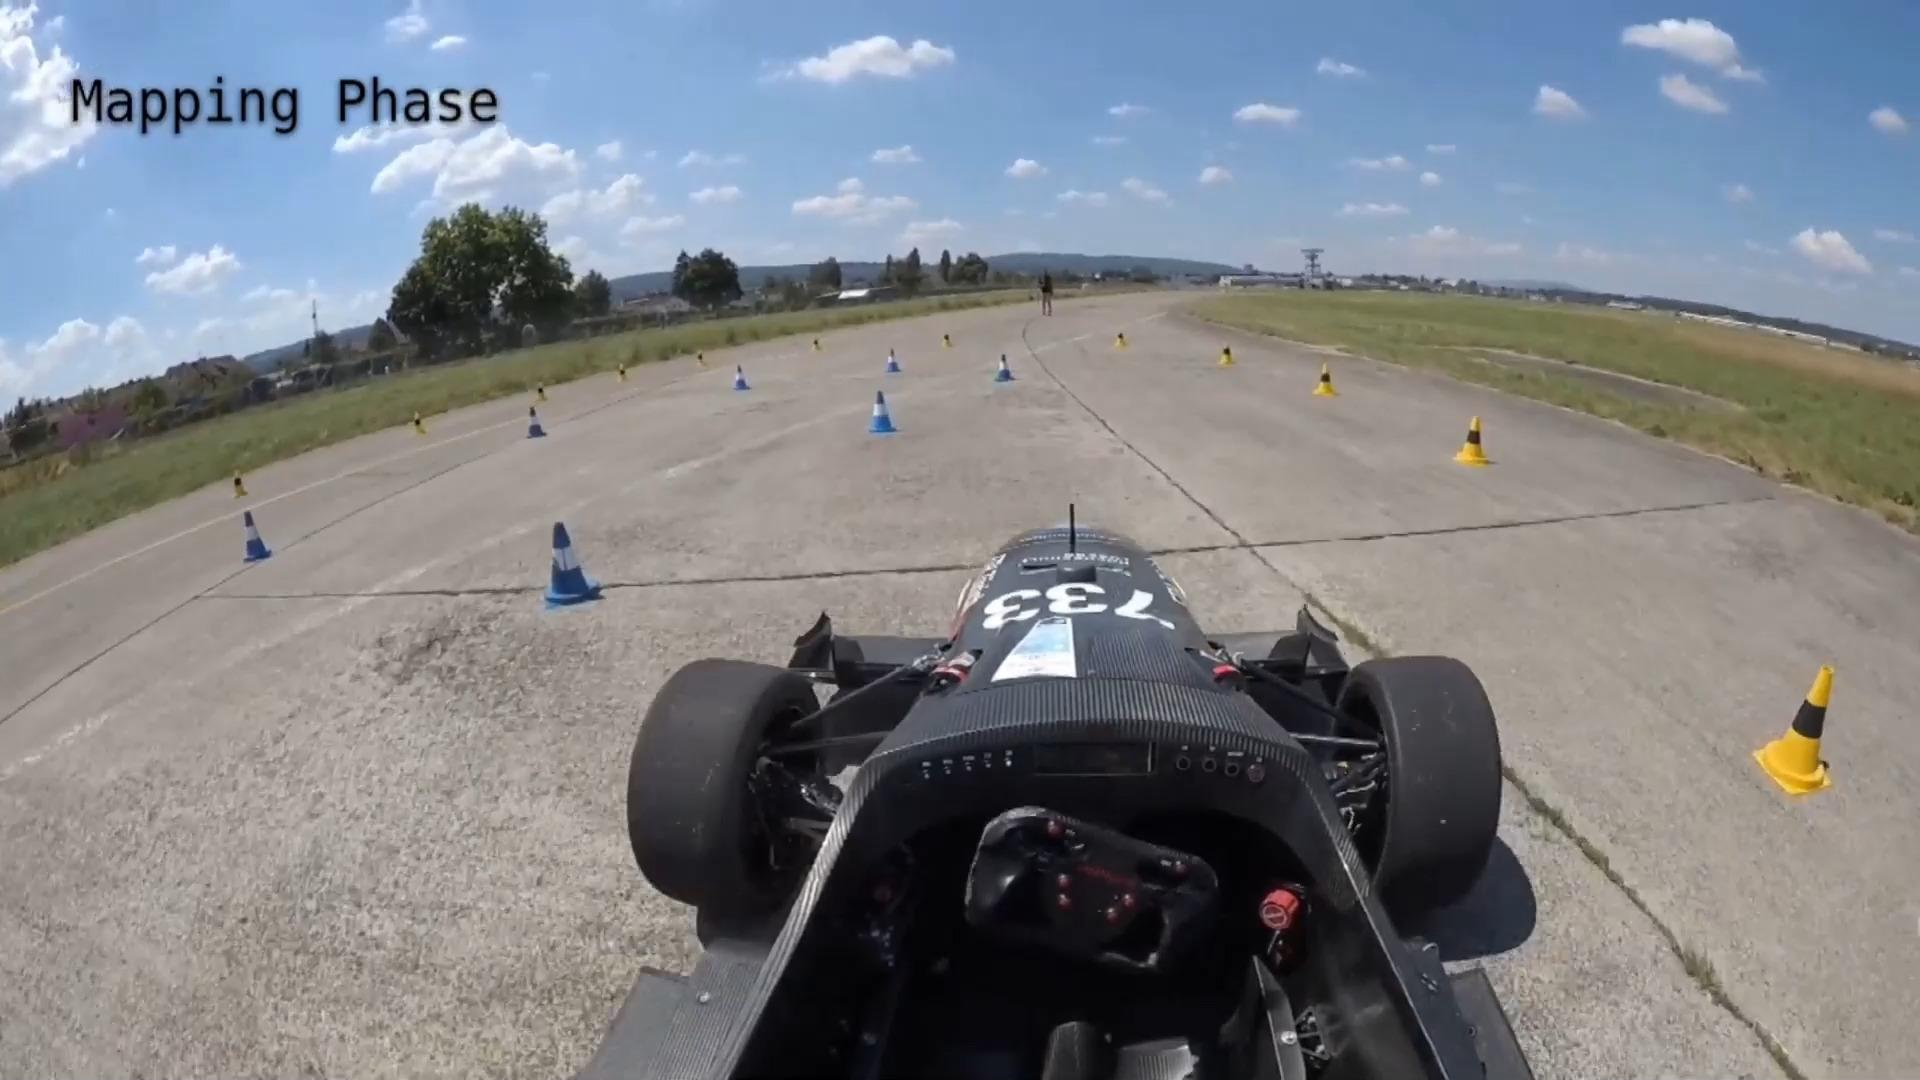yellow_cone: (1112, 328, 1128, 352)
